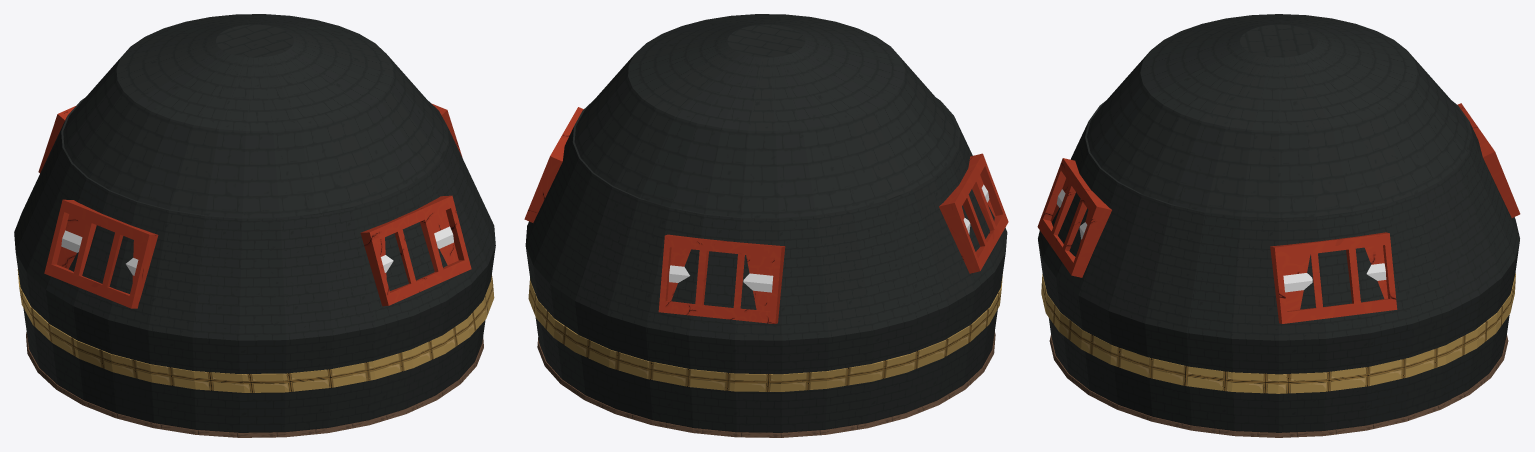
The model's file is ARENA.fbx.
The picture shows the model from 3 angles, left to right: view 1: azimuth 30°, elevation 25°; view 2: azimuth 150°, elevation 25°; view 3: azimuth 270°, elevation 25°; orthographic projection.
Parts seen in each view (by area): view 1: Cylinder.002, Cylinder.010, Cube.002, Cylinder.003, Cylinder.009, Cylinder.011; view 2: Cylinder.002, Cylinder.010, Cube.002, Cylinder.003, Cylinder.009, Cylinder.011; view 3: Cylinder.002, Cylinder.010, Cube.002, Cylinder.003, Cylinder.009, Cylinder.011.
Part boxes in pixels (<box>): Cylinder.002: <box>14,97,495,432</box>; Cylinder.010: <box>63,14,446,217</box>; Cube.002: <box>38,103,471,308</box>; Cylinder.003: <box>17,269,494,392</box>; Cylinder.009: <box>26,332,483,437</box>; Cylinder.011: <box>61,226,453,275</box>; Cylinder.002: <box>525,98,1007,432</box>; Cylinder.010: <box>574,14,958,217</box>; Cube.002: <box>524,107,1008,323</box>; Cylinder.003: <box>528,276,1002,391</box>; Cylinder.009: <box>537,331,995,437</box>; Cylinder.011: <box>669,184,989,292</box>; Cylinder.002: <box>1038,101,1519,432</box>; Cylinder.010: <box>1087,14,1470,217</box>; Cube.002: <box>1037,103,1520,323</box>; Cylinder.003: <box>1041,273,1515,393</box>; Cylinder.009: <box>1049,335,1508,437</box>; Cylinder.011: <box>1057,189,1386,292</box>.
Size of the model in its own units: 4082 by 5651 by 5571.
Materials: 6 (6 with a texture image).
